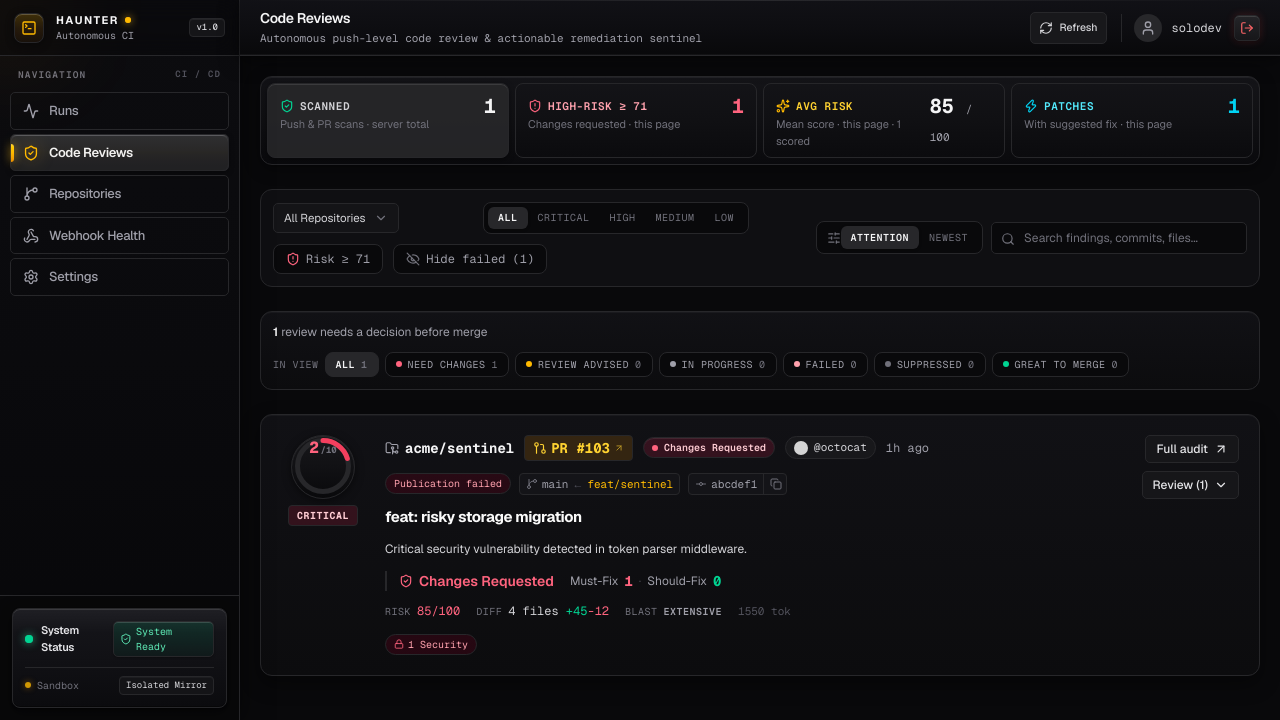
Scenario: ReviewsPage (app/reviews/page.tsx) › publish failures (saved audit, GitHub publish failed) › detail renders the full audit with the publish failure as context, not an error panel
Check: the text "PR #103" is shown, box 551,438 -> 610,458
Click the button "Full audit" at [1192, 449], box 1145,435 -> 1239,463
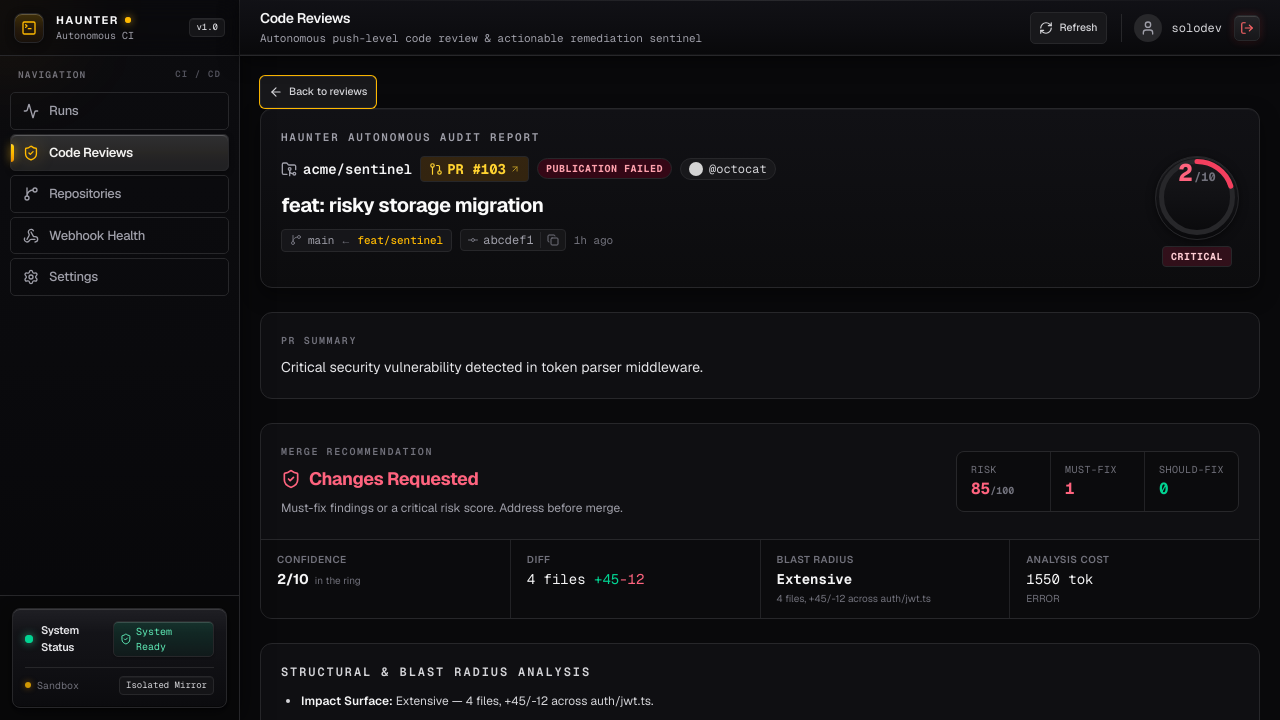
Check: the text "Critical security vulnerability detected in token parser middleware." is shown, box 281,358 -> 703,376
Check: the heading "PR Summary" is shown, box 281,334 -> 357,346
